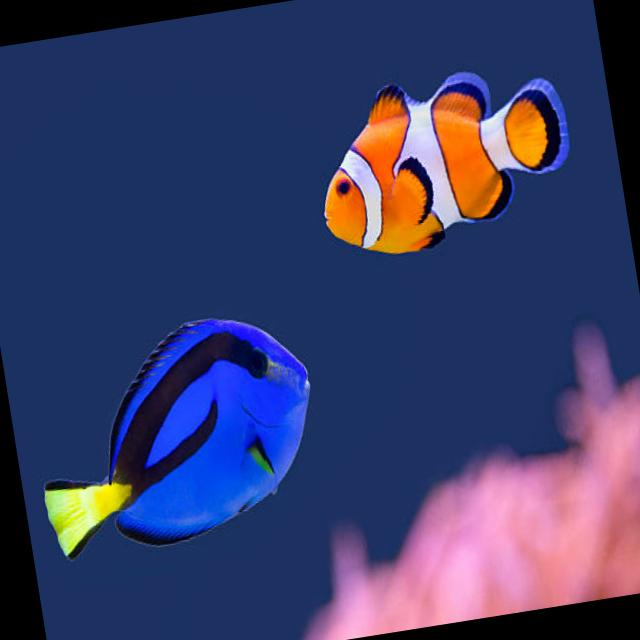ClownFish: (306, 48, 589, 264)
TangFish: (18, 296, 340, 571)
